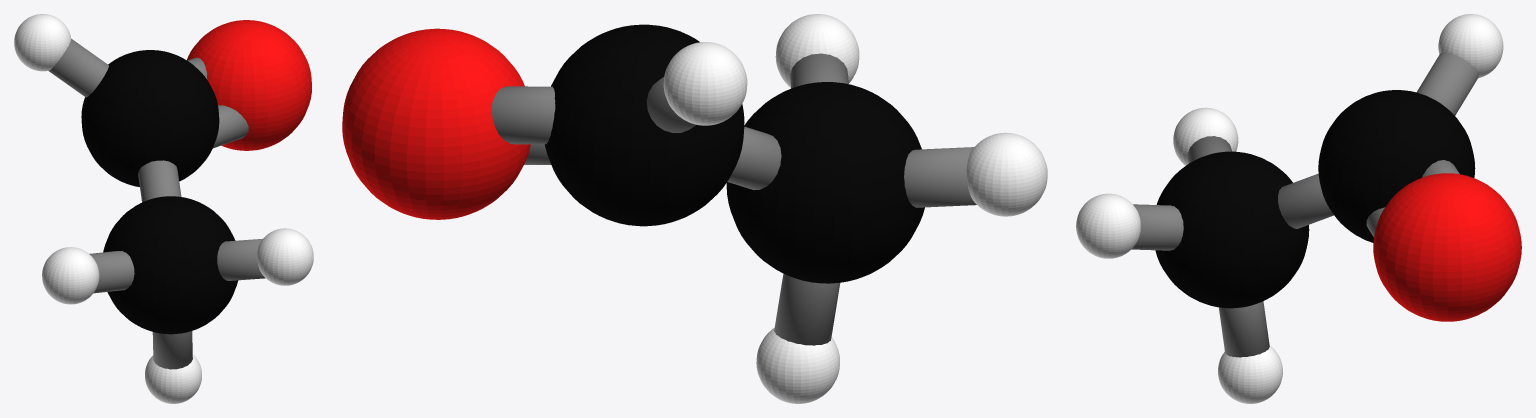
The model's file is METANAL.obj.
3 renders of one model, left to right at view 1: azimuth 30°, elevation 25°; view 2: azimuth 150°, elevation 25°; view 3: azimuth 270°, elevation 25°, orthographic. The views are drawn at different scales.
Parts seen in each view (by area): view 1: Carbon_ball_Sphere, Oxygen_ball_Sphere.002, Hydrogen_ball_Sphere.001, Stick_Cylinder.002_Cylinder.002, Stick_Cylinder.004_Cylinder.004, Stick_Cylinder.001_Cylinder.001, Stick_Cylinder.003_Cylinder.003, Stick_Cylinder.005_Cylinder.005, Stick_Cylinder.006_Cylinder.006; view 2: Carbon_ball_Sphere, Oxygen_ball_Sphere.002, Hydrogen_ball_Sphere.001, Stick_Cylinder.003_Cylinder.003, Stick_Cylinder.005_Cylinder.005, Stick_Cylinder_Cylinder, Stick_Cylinder.001_Cylinder.001, Stick_Cylinder.004_Cylinder.004, Stick_Cylinder.002_Cylinder.002; view 3: Carbon_ball_Sphere, Oxygen_ball_Sphere.002, Hydrogen_ball_Sphere.001, Stick_Cylinder.002_Cylinder.002, Stick_Cylinder.005_Cylinder.005, Stick_Cylinder.001_Cylinder.001, Stick_Cylinder.004_Cylinder.004, Stick_Cylinder.003_Cylinder.003.
Part boxes in pixels (box(x1,y1,x2,y2)): Carbon_ball_Sphere: box(81, 50, 238, 334); Oxygen_ball_Sphere.002: box(187, 20, 311, 150); Hydrogen_ball_Sphere.001: box(14, 14, 313, 403); Stick_Cylinder.002_Cylinder.002: box(48, 38, 108, 97); Stick_Cylinder.004_Cylinder.004: box(217, 238, 265, 280); Stick_Cylinder.001_Cylinder.001: box(138, 160, 181, 202); Stick_Cylinder.003_Cylinder.003: box(89, 251, 134, 293); Stick_Cylinder.005_Cylinder.005: box(152, 331, 192, 369); Stick_Cylinder.006_Cylinder.006: box(212, 105, 248, 148); Carbon_ball_Sphere: box(544, 24, 924, 283); Oxygen_ball_Sphere.002: box(342, 28, 530, 219); Hydrogen_ball_Sphere.001: box(663, 14, 1047, 403); Stick_Cylinder.003_Cylinder.003: box(904, 147, 976, 207); Stick_Cylinder.005_Cylinder.005: box(774, 273, 840, 345); Stick_Cylinder_Cylinder: box(491, 86, 555, 144); Stick_Cylinder.001_Cylinder.001: box(727, 126, 781, 189); Stick_Cylinder.004_Cylinder.004: box(790, 53, 848, 88); Stick_Cylinder.002_Cylinder.002: box(646, 77, 696, 132); Carbon_ball_Sphere: box(1155, 90, 1475, 308); Oxygen_ball_Sphere.002: box(1373, 173, 1521, 321); Hydrogen_ball_Sphere.001: box(1076, 14, 1503, 403); Stick_Cylinder.002_Cylinder.002: box(1416, 52, 1478, 115); Stick_Cylinder.005_Cylinder.005: box(1219, 301, 1269, 357); Stick_Cylinder.001_Cylinder.001: box(1278, 173, 1333, 228); Stick_Cylinder.004_Cylinder.004: box(1131, 204, 1183, 250); Stick_Cylinder.003_Cylinder.003: box(1187, 136, 1232, 163).
Size of the model in its own units: 4.22 by 3.56 by 3.94.
